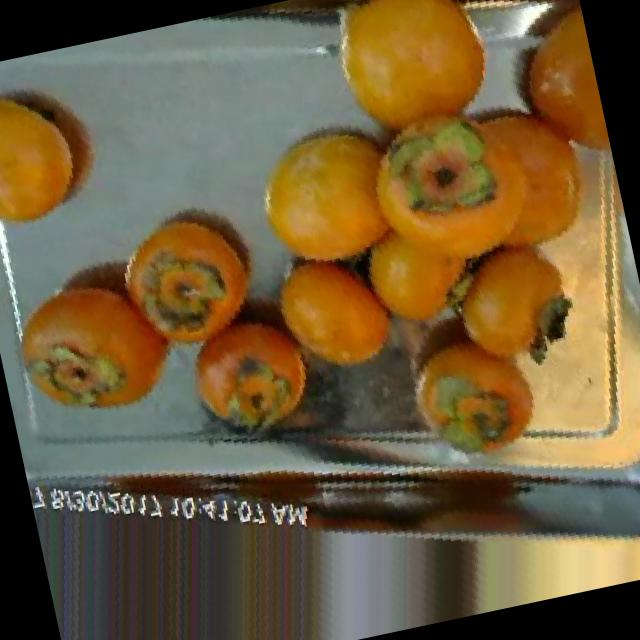Fruit: (0, 226, 203, 449), (225, 91, 432, 299), (306, 0, 531, 180), (96, 177, 292, 383), (163, 282, 337, 458), (252, 225, 412, 398), (0, 56, 128, 250)
